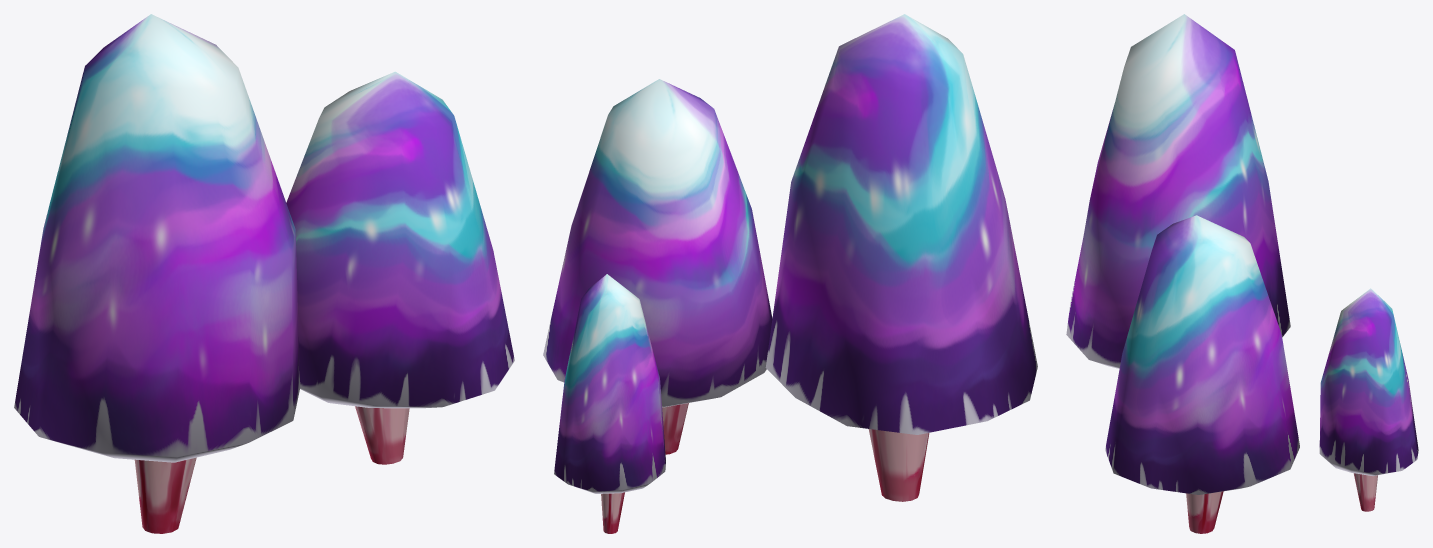
The model's file is SM_ENV_graveyard_shroom_02.fbx.
3 views of the same model, side by side, from view 1: azimuth 30°, elevation 25°; view 2: azimuth 150°, elevation 25°; view 3: azimuth 270°, elevation 25° (orthographic). The views are drawn at different scales.
Parts seen in each view (by area): view 1: SM_ENV_graveyard_shroom_02; view 2: SM_ENV_graveyard_shroom_02; view 3: SM_ENV_graveyard_shroom_02.
Boxes of the visible parts, x1,y1,x2,y2 form: SM_ENV_graveyard_shroom_02: [14, 14, 514, 533]; SM_ENV_graveyard_shroom_02: [543, 14, 1037, 533]; SM_ENV_graveyard_shroom_02: [1066, 14, 1418, 533].
Bounding box in the file's own units: 37.37 × 38.04 × 29.16.
